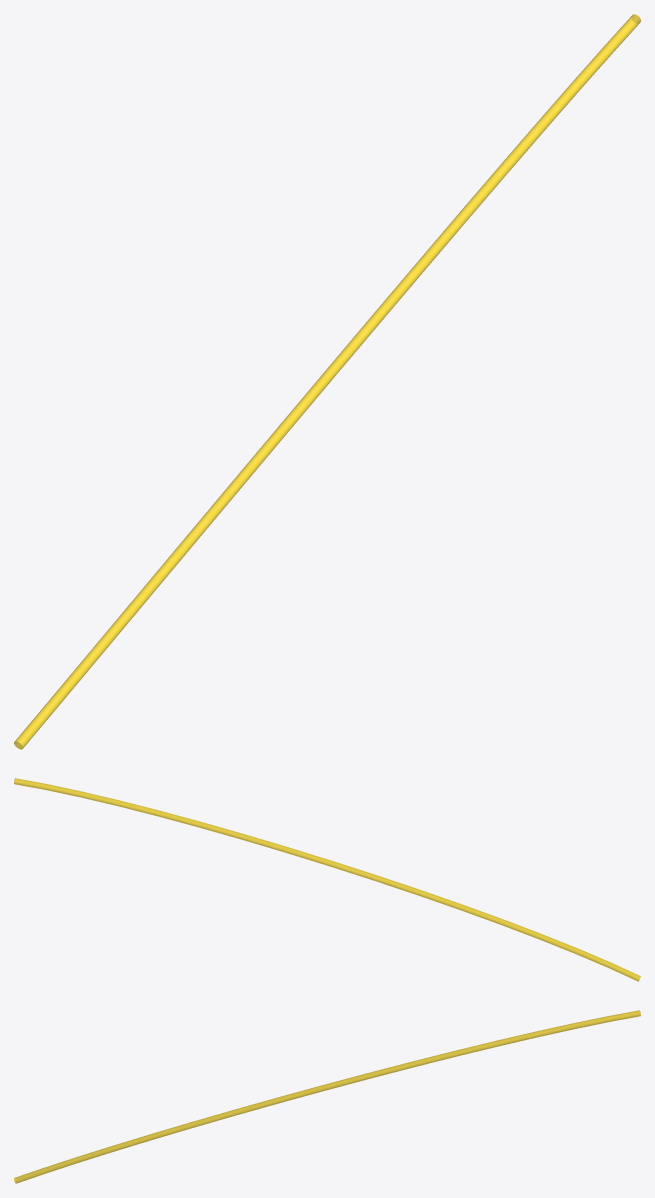
Rendered from Event_100608114_track_49.fbx.
The picture shows the model from 3 angles, top to bottom: view 1: azimuth 30°, elevation 25°; view 2: azimuth 150°, elevation 25°; view 3: azimuth 330°, elevation 25°; orthographic projection. The views are drawn at different scales.
Visible parts, largest first — view 1: Model; view 2: Model; view 3: Model.
Boxes of the visible parts, x1,y1,x2,y2 form: Model: (14,14,640,749); Model: (14,778,640,981); Model: (14,1010,640,1183).
Bounding box in the file's own units: 3.63 × 1.34 × 1.86.
